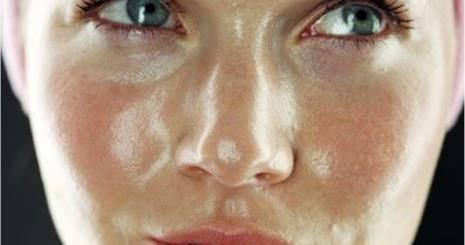Oily-Skin: (108, 89, 171, 188), (181, 64, 217, 166), (104, 49, 190, 84), (259, 11, 282, 77), (305, 143, 334, 183), (219, 137, 241, 165), (231, 3, 244, 44), (223, 197, 248, 218)
